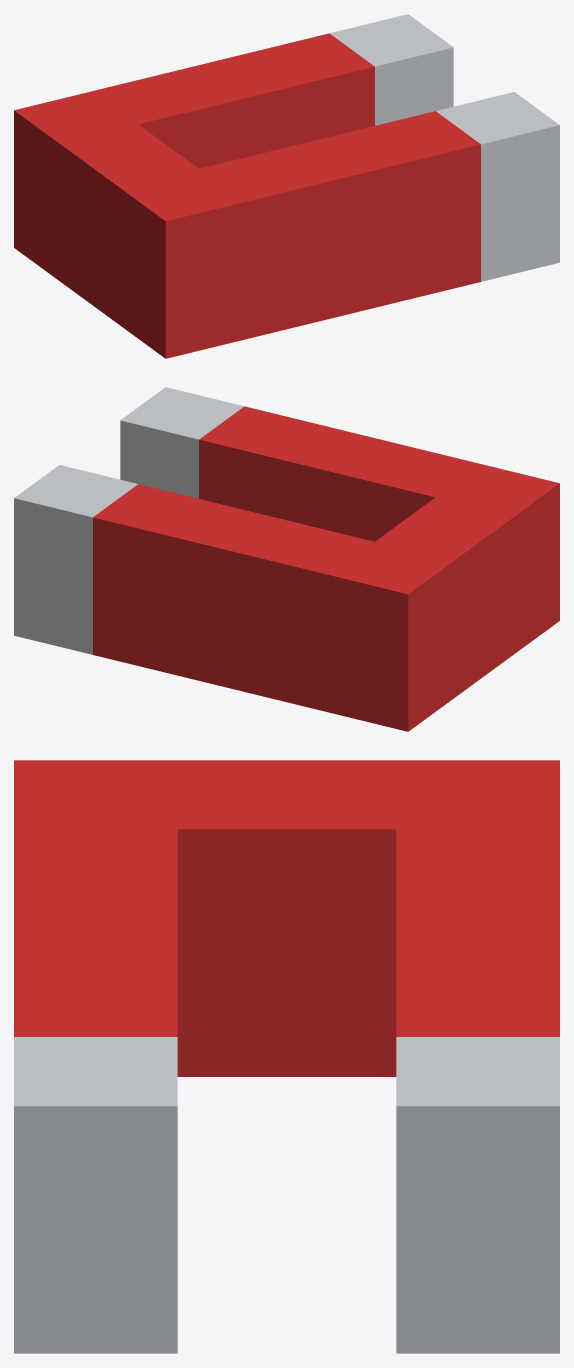
File: scale_magnet.glb
The picture shows the model from 3 angles, top to bottom: view 1: azimuth 30°, elevation 25°; view 2: azimuth 150°, elevation 25°; view 3: azimuth 270°, elevation 25°; orthographic projection. The views are drawn at different scales.
Parts seen in each view (by area): view 1: arm_magnet_red, back_magnet_red, tip_magnet_tip; view 2: arm_magnet_red, back_magnet_red, tip_magnet_tip; view 3: tip_magnet_tip, back_magnet_red, arm_magnet_red.
Boxes of the visible parts, x1,y1,x2,y2 form: arm_magnet_red: [93, 33, 480, 339]; back_magnet_red: [14, 91, 244, 358]; tip_magnet_tip: [330, 14, 559, 281]; arm_magnet_red: [93, 406, 480, 712]; back_magnet_red: [329, 464, 559, 731]; tip_magnet_tip: [14, 387, 243, 654]; tip_magnet_tip: [14, 1037, 559, 1353]; back_magnet_red: [14, 760, 559, 1076]; arm_magnet_red: [14, 829, 559, 1036].
Bounding box in the file's own units: 0.15 × 0.05 × 0.1.
